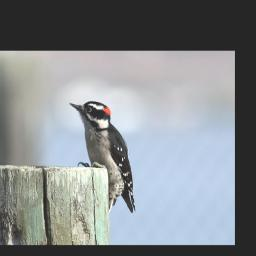Woodpecker: (68, 100, 137, 212)
